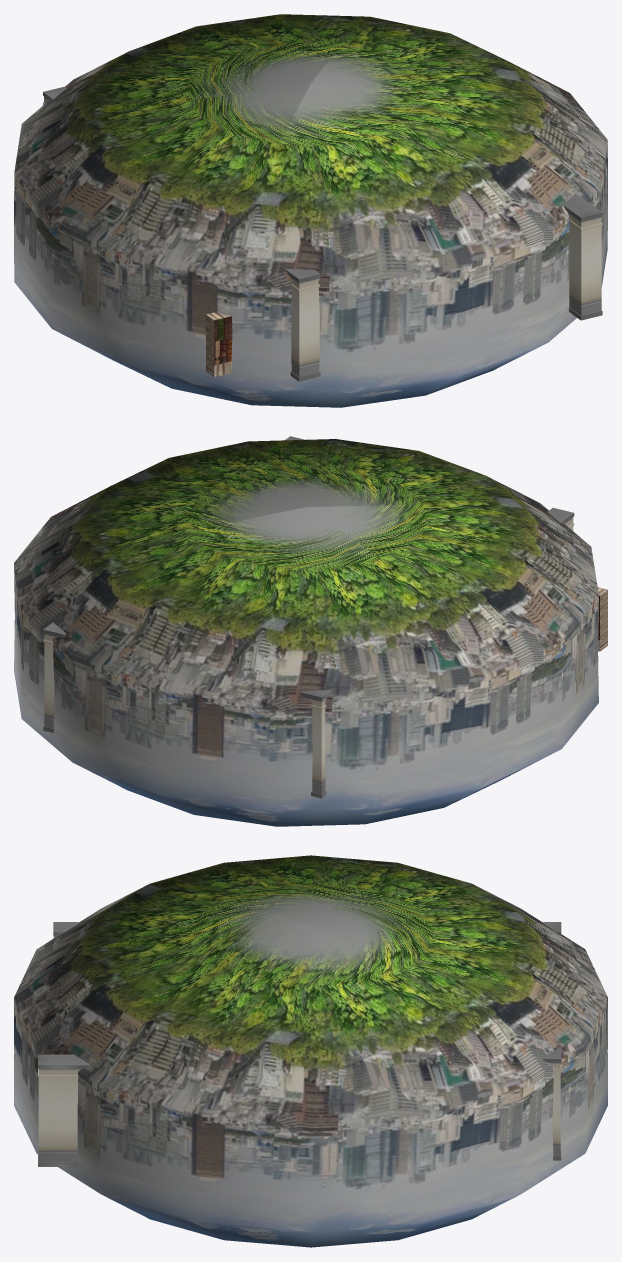
Rendered from Library.glb.
3 views of the same model, one above another, from view 1: azimuth 30°, elevation 25°; view 2: azimuth 150°, elevation 25°; view 3: azimuth 270°, elevation 25° (orthographic).
Visible parts, largest first — view 1: Library; view 2: Library; view 3: Library.
Part boxes in pixels (<box>): Library: <box>14,14,607,407</box>; Library: <box>14,436,607,826</box>; Library: <box>14,855,607,1247</box>.
Bounding box in the file's own units: 143 × 67.51 × 143.
25 materials, 24 textured.
